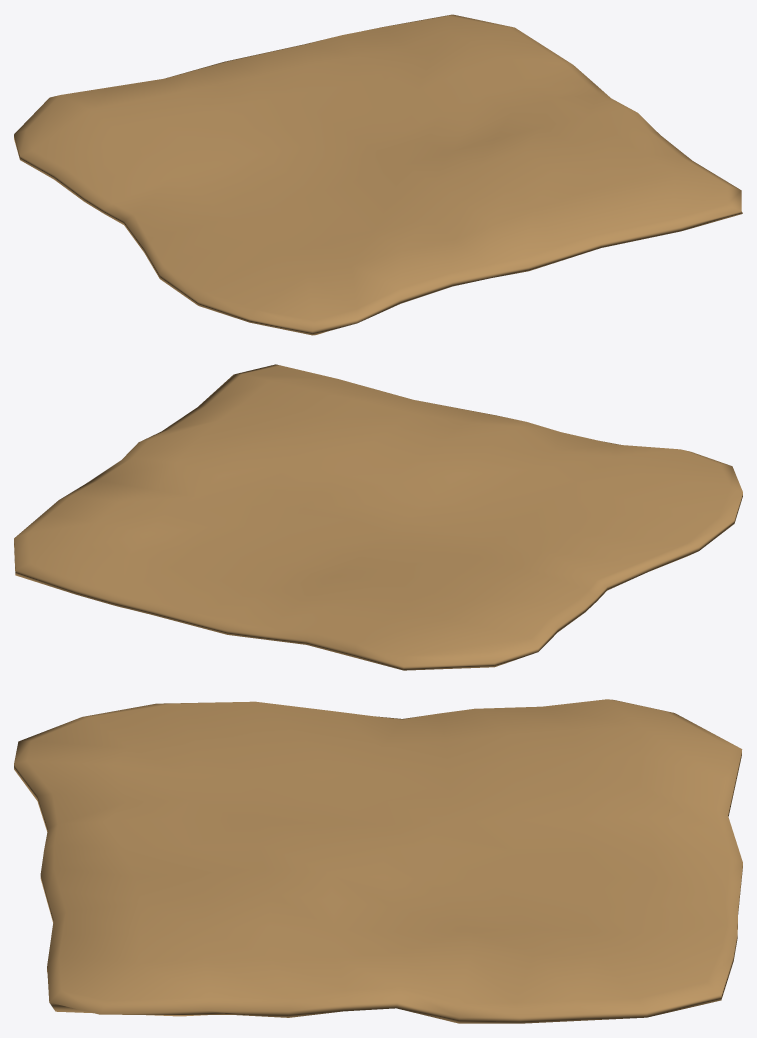
The model's file is PeanutButterSplat.fbx.
3 views of the same model, one above another, from view 1: azimuth 30°, elevation 25°; view 2: azimuth 150°, elevation 25°; view 3: azimuth 270°, elevation 25° (orthographic). The views are drawn at different scales.
Parts seen in each view (by area): view 1: PeanutButterSplat; view 2: PeanutButterSplat; view 3: PeanutButterSplat.
Boxes of the visible parts, x1=… form: PeanutButterSplat: x1=14, y1=14, x2=742, y2=335; PeanutButterSplat: x1=14, y1=364, x2=742, y2=670; PeanutButterSplat: x1=14, y1=699, x2=742, y2=1023.
Bounding box in the file's own units: 47.65 × 3.29 × 46.69.
